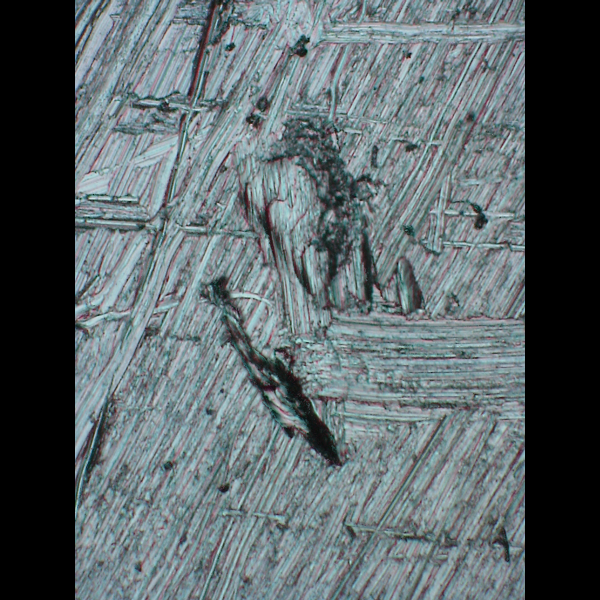d: (193, 40, 434, 475)
